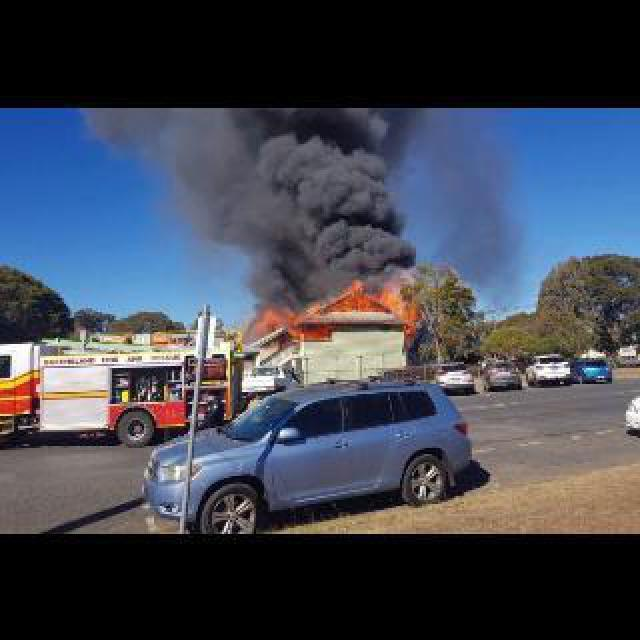Fire: (254, 270, 416, 348)
Smoke: (160, 112, 414, 266)
